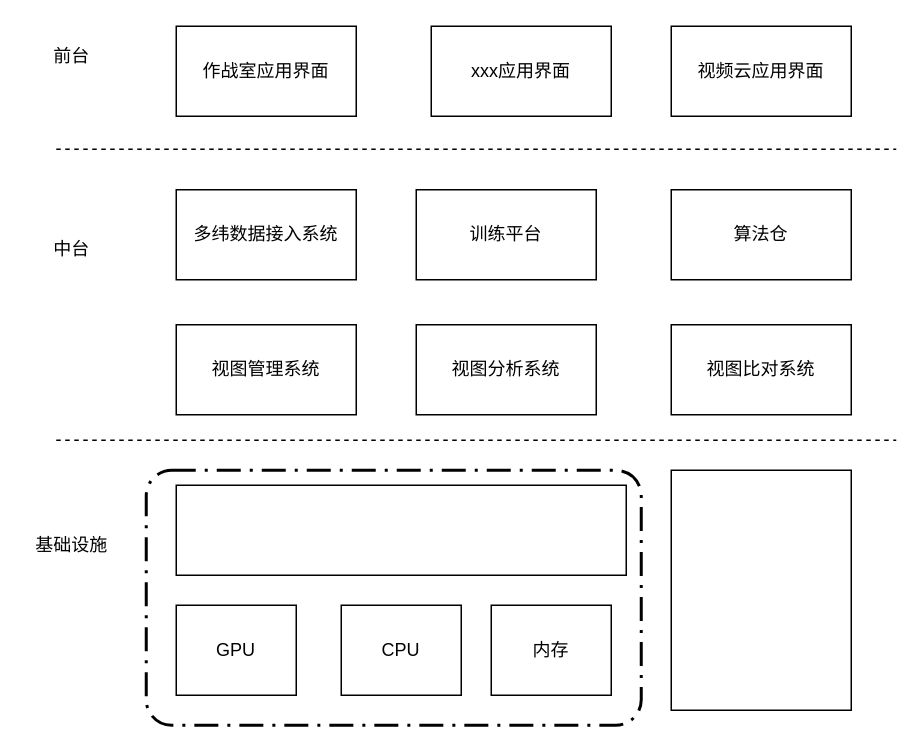
This 924x753 diagram has some shape labels left out. The box of each missing label's shape, as (x1, y1, x2, y2) in pixels:
kubernetes: (175, 484, 626, 575)
云存储: (670, 469, 851, 710)
